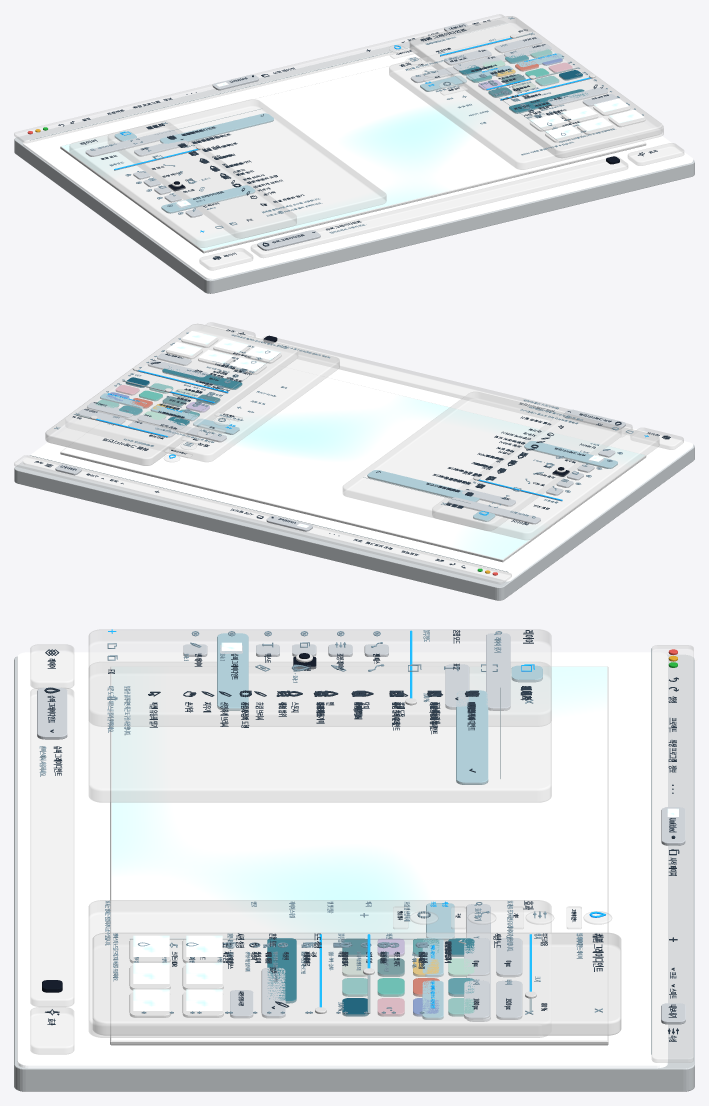
The model's file is image-pro-dark.glb.
3 renders of one model, top to bottom at view 1: azimuth 30°, elevation 25°; view 2: azimuth 150°, elevation 25°; view 3: azimuth 270°, elevation 25°, orthographic. The views are drawn at different scales.
Visible parts, largest first — view 1: SuperGradientCanvas, Workspace, Tools.glassBody, WindowEdge, Layers.glassBody, BasicInspector.glassBody, Effects.glassBody, Inspector.glassBody, Titlebar.glass, Toolbar, CanvasPaper, Tools.tool.selected (+7 smaller); view 2: SuperGradientCanvas, Workspace, Tools.glassBody, WindowEdge, Layers.glassBody, BasicInspector.glassBody, Inspector.glassBody, Titlebar.glass, Effects.glassBody, Toolbar, CanvasPaper, Tools.tool.selected (+7 smaller); view 3: SuperGradientCanvas, Workspace, Tools.glassBody, Layers.glassBody, BasicInspector.glassBody, WindowEdge, Inspector.glassBody, Effects.glassBody, Titlebar.glass, Toolbar, CanvasPaper, Tools.tool.selected (+23 smaller).
Part boxes in pixels (x1,y1,x2,y2): SuperGradientCanvas: (61,39,644,250); Workspace: (23,24,693,279); Tools.glassBody: (108,99,386,238); WindowEdge: (14,20,694,293); Layers.glassBody: (69,121,296,247); BasicInspector.glassBody: (410,16,661,157); Effects.glassBody: (389,32,663,169); Inspector.glassBody: (410,16,661,151); Titlebar.glass: (14,14,504,143); Toolbar: (251,157,627,257); CanvasPaper: (60,65,646,253); Tools.tool.selected: (160,113,273,143); SuperGradientCanvas: (61,348,644,559); Workspace: (23,326,693,581); Tools.glassBody: (343,392,621,530); WindowEdge: (14,444,694,600); Layers.glassBody: (432,413,659,539); BasicInspector.glassBody: (45,324,297,465); Inspector.glassBody: (45,324,297,465); Titlebar.glass: (14,455,511,584); Effects.glassBody: (169,347,339,461); Toolbar: (262,336,632,436); CanvasPaper: (60,375,646,562); Tools.tool.selected: (367,470,479,501); SuperGradientCanvas: (111,666,607,1040); Workspace: (17,652,667,1068); Tools.glassBody: (89,662,551,802); Layers.glassBody: (89,629,551,726); BasicInspector.glassBody: (93,933,620,1035); WindowEdge: (14,654,694,1091); Inspector.glassBody: (93,933,620,1035); Effects.glassBody: (89,900,551,1037); Titlebar.glass: (652,645,693,1062); Toolbar: (30,688,73,1006); CanvasPaper: (110,666,608,1045); Tools.tool.selected: (456,690,488,784).
Bounding box in the file's own units: 10 × 0.771 × 6.94.
